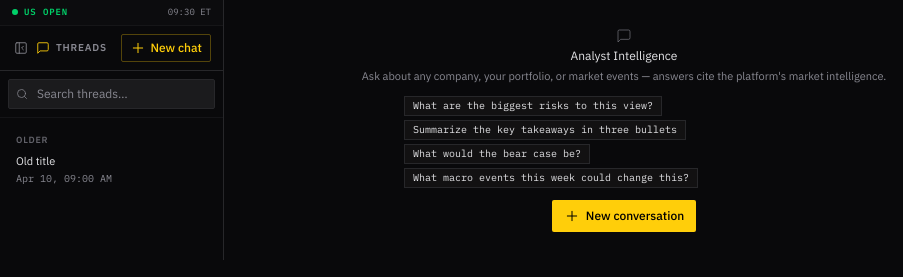
Test: Thread rename › double-click swaps the title to an input
Double-click the text "Old title" at (36, 161), box [16,154,55,168]
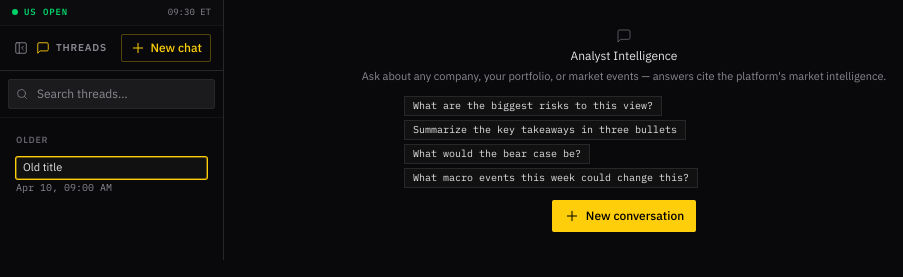
Check: the field named "edit thread title" is shown, box [16,157,207,179]
